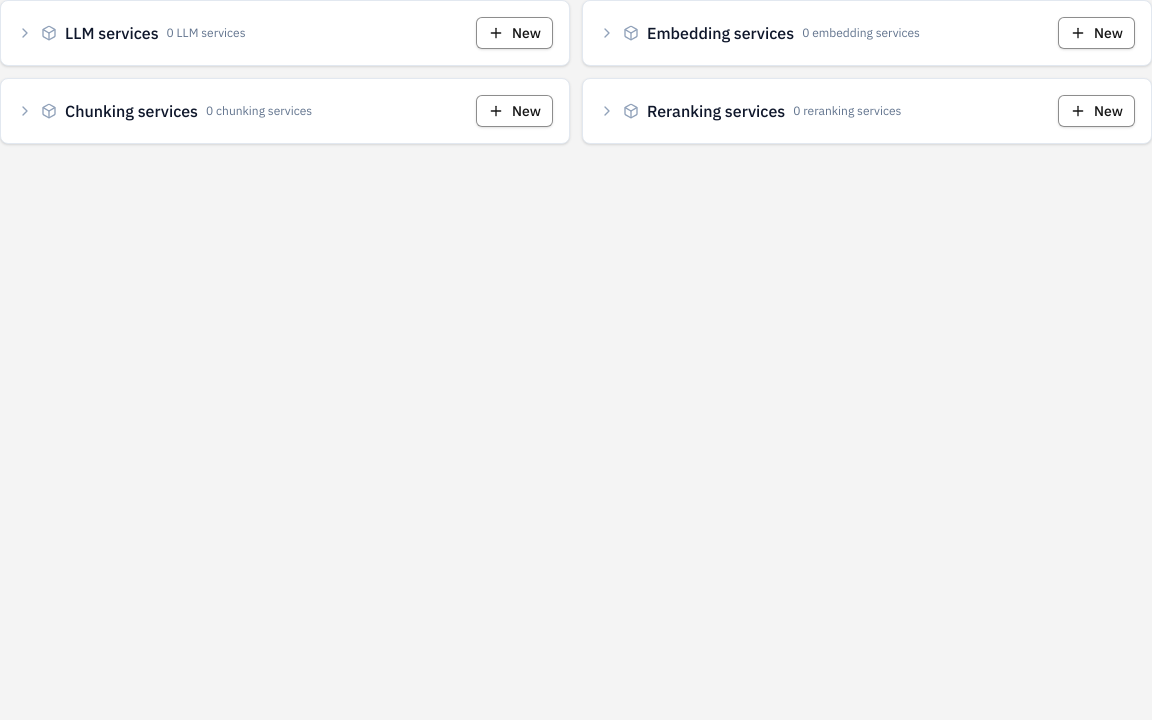
ServicesPanel › opens the create dialog with the preset picker when 'New' is clicked
The width and height of the screenshot is (1152, 720).
Click the 2nd button "New".
click(1097, 33)  # box [1058,17,1135,49]
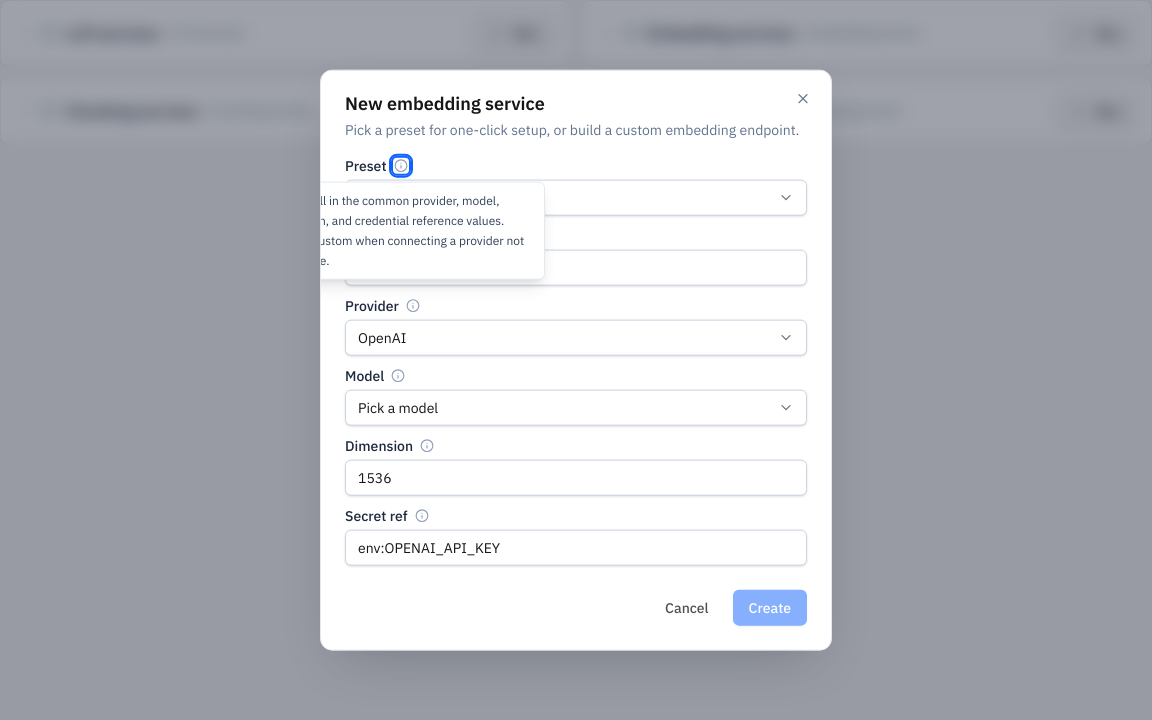
expect the heading "New embedding service" is shown: met, box [345,92,545,115]
expect the text "Pick a preset" is shown: met, box [345,121,799,139]
